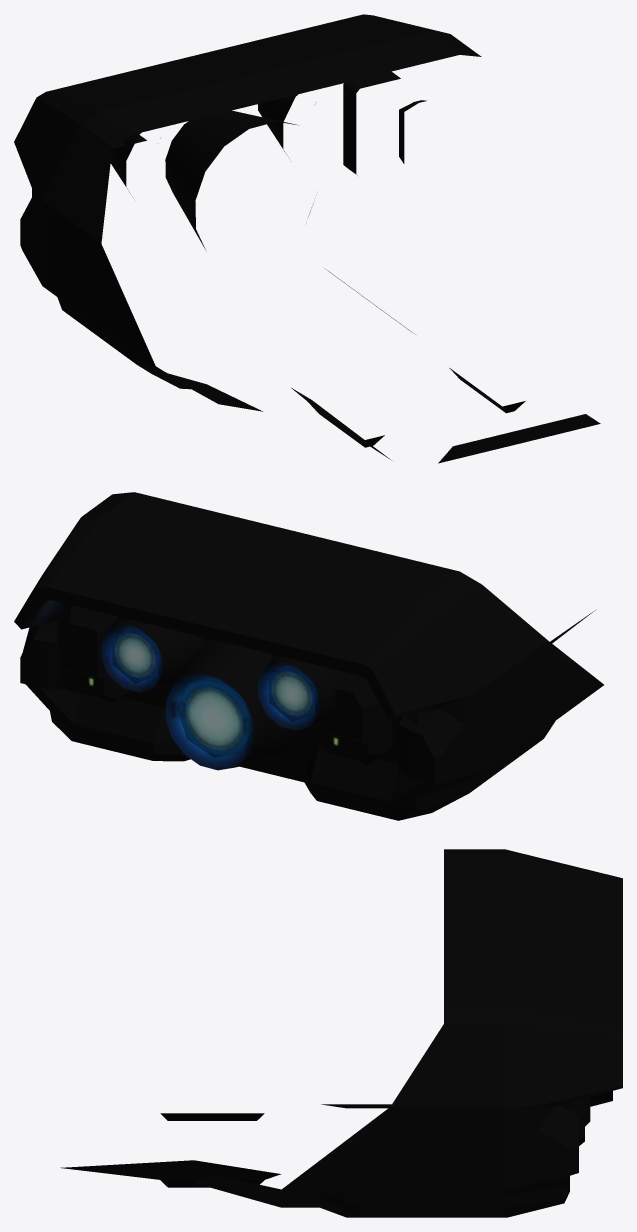
Rendered from engine_hgn_carrier_03_ion_02_t1.glb.
3 views of the same model, one above another, from view 1: azimuth 30°, elevation 25°; view 2: azimuth 150°, elevation 25°; view 3: azimuth 270°, elevation 25° (orthographic). The views are drawn at different scales.
Parts seen in each view (by area): view 1: hgn_flagship_carrier_03_ion_engine_s_LOD0; view 2: hgn_flagship_carrier_03_ion_engine_s_LOD0; view 3: hgn_flagship_carrier_03_ion_engine_s_LOD0.
Part boxes in pixels (x1,y1,x2,y2): hgn_flagship_carrier_03_ion_engine_s_LOD0: [14, 14, 600, 463]; hgn_flagship_carrier_03_ion_engine_s_LOD0: [14, 492, 603, 820]; hgn_flagship_carrier_03_ion_engine_s_LOD0: [60, 849, 622, 1217].
Size of the model in its own units: 1.86 by 0.9168 by 2.27.
1 material, 1 textured.
